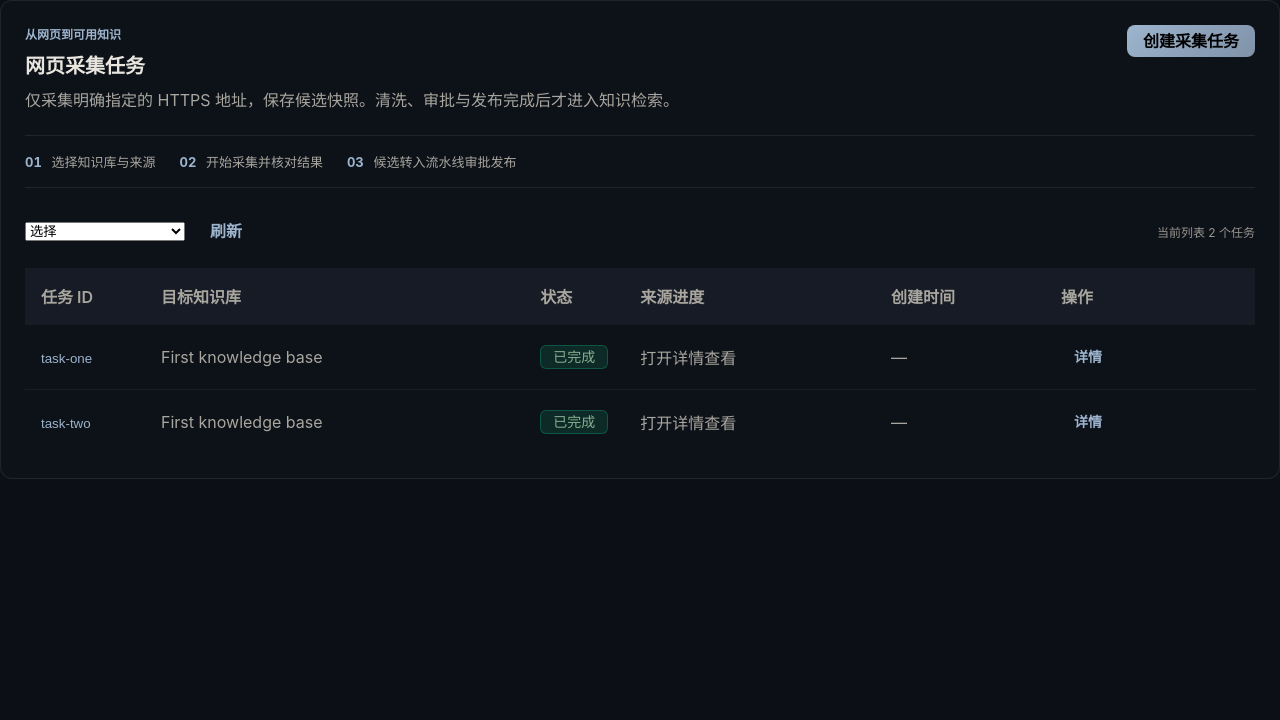
Scenario: collection source to lifecycle flow › reads knowledge base pages and allows selecting the later page
Click the button "创建采集任务": click(1191, 41) [1127,25,1255,57]
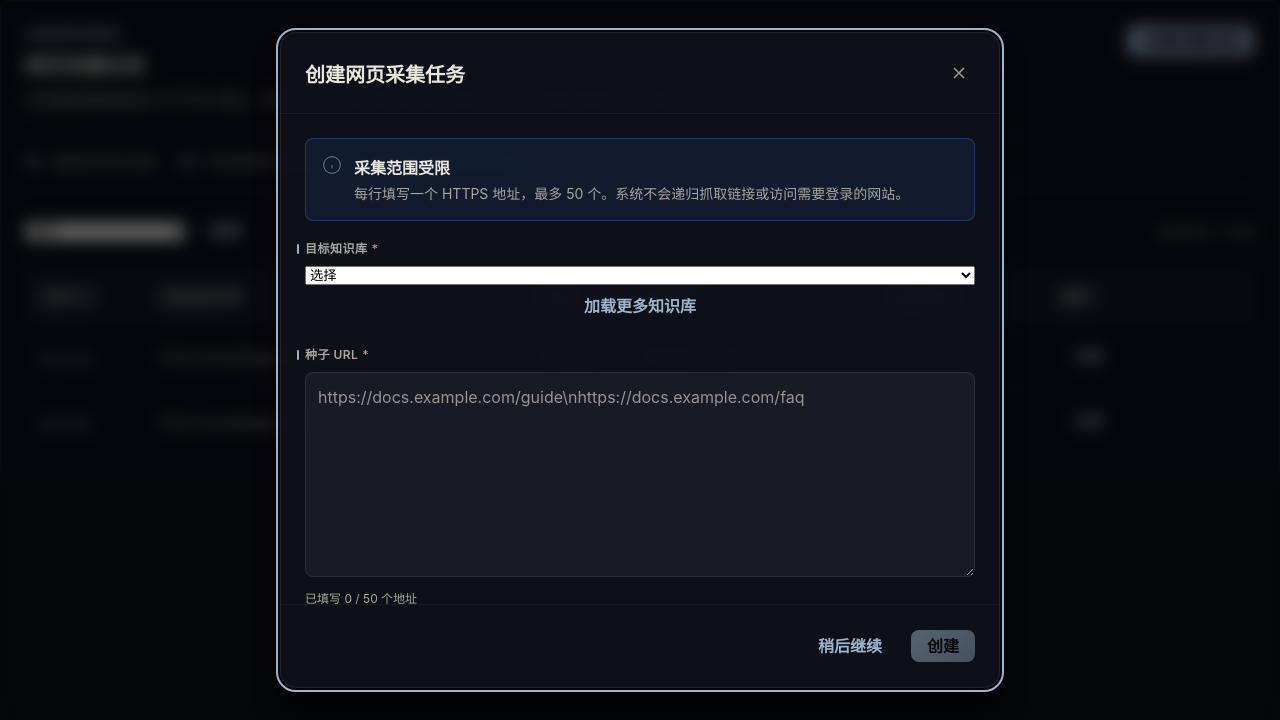
Click the button "加载更多知识库": click(640, 306) [305,289,975,323]
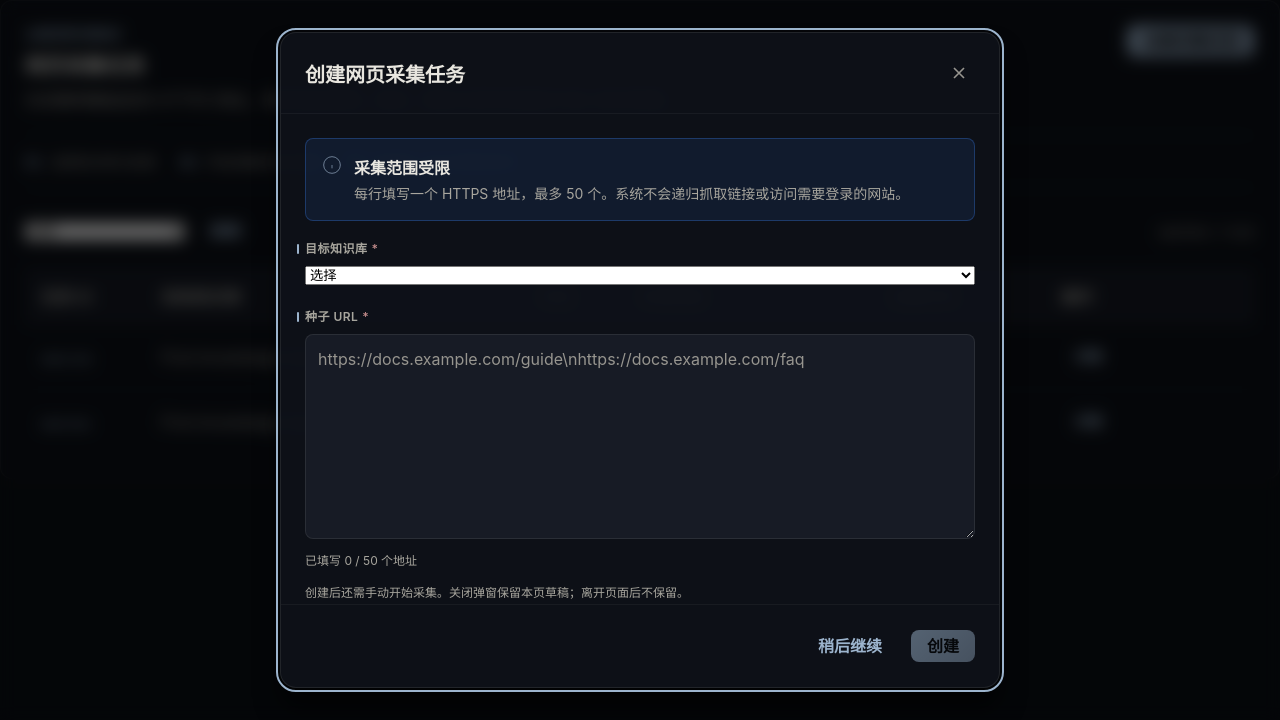
Expected: the text "加载更多知识库" is gone
